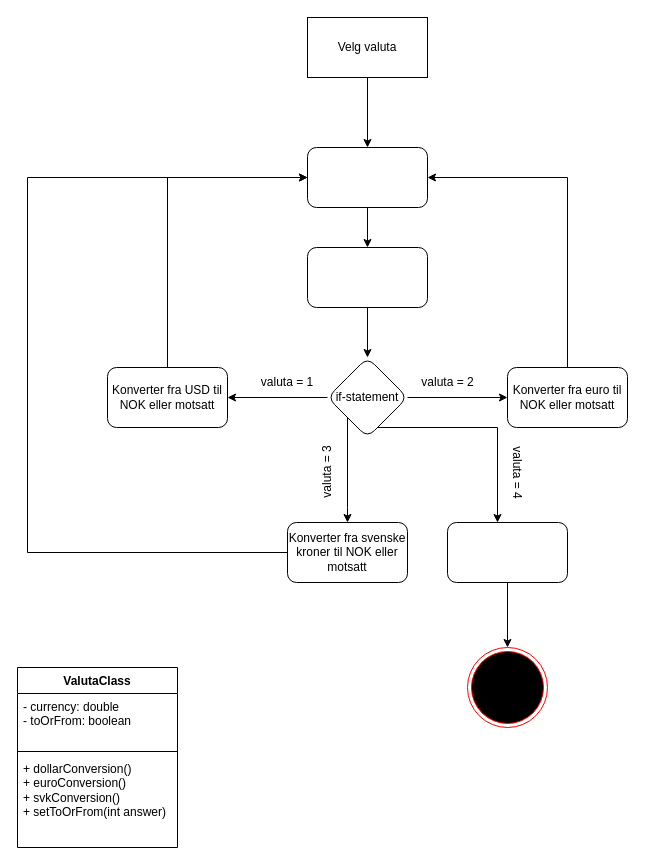
The diagram is 645 pixels wide and 868 high, and some of its shapes have lost their labels. The centre of each missing label's shape, as x and y in pixels:
Gå ut av while-loopen: (507,552)
Til eller fra NOK: (367,277)
While-loop: (367,177)
